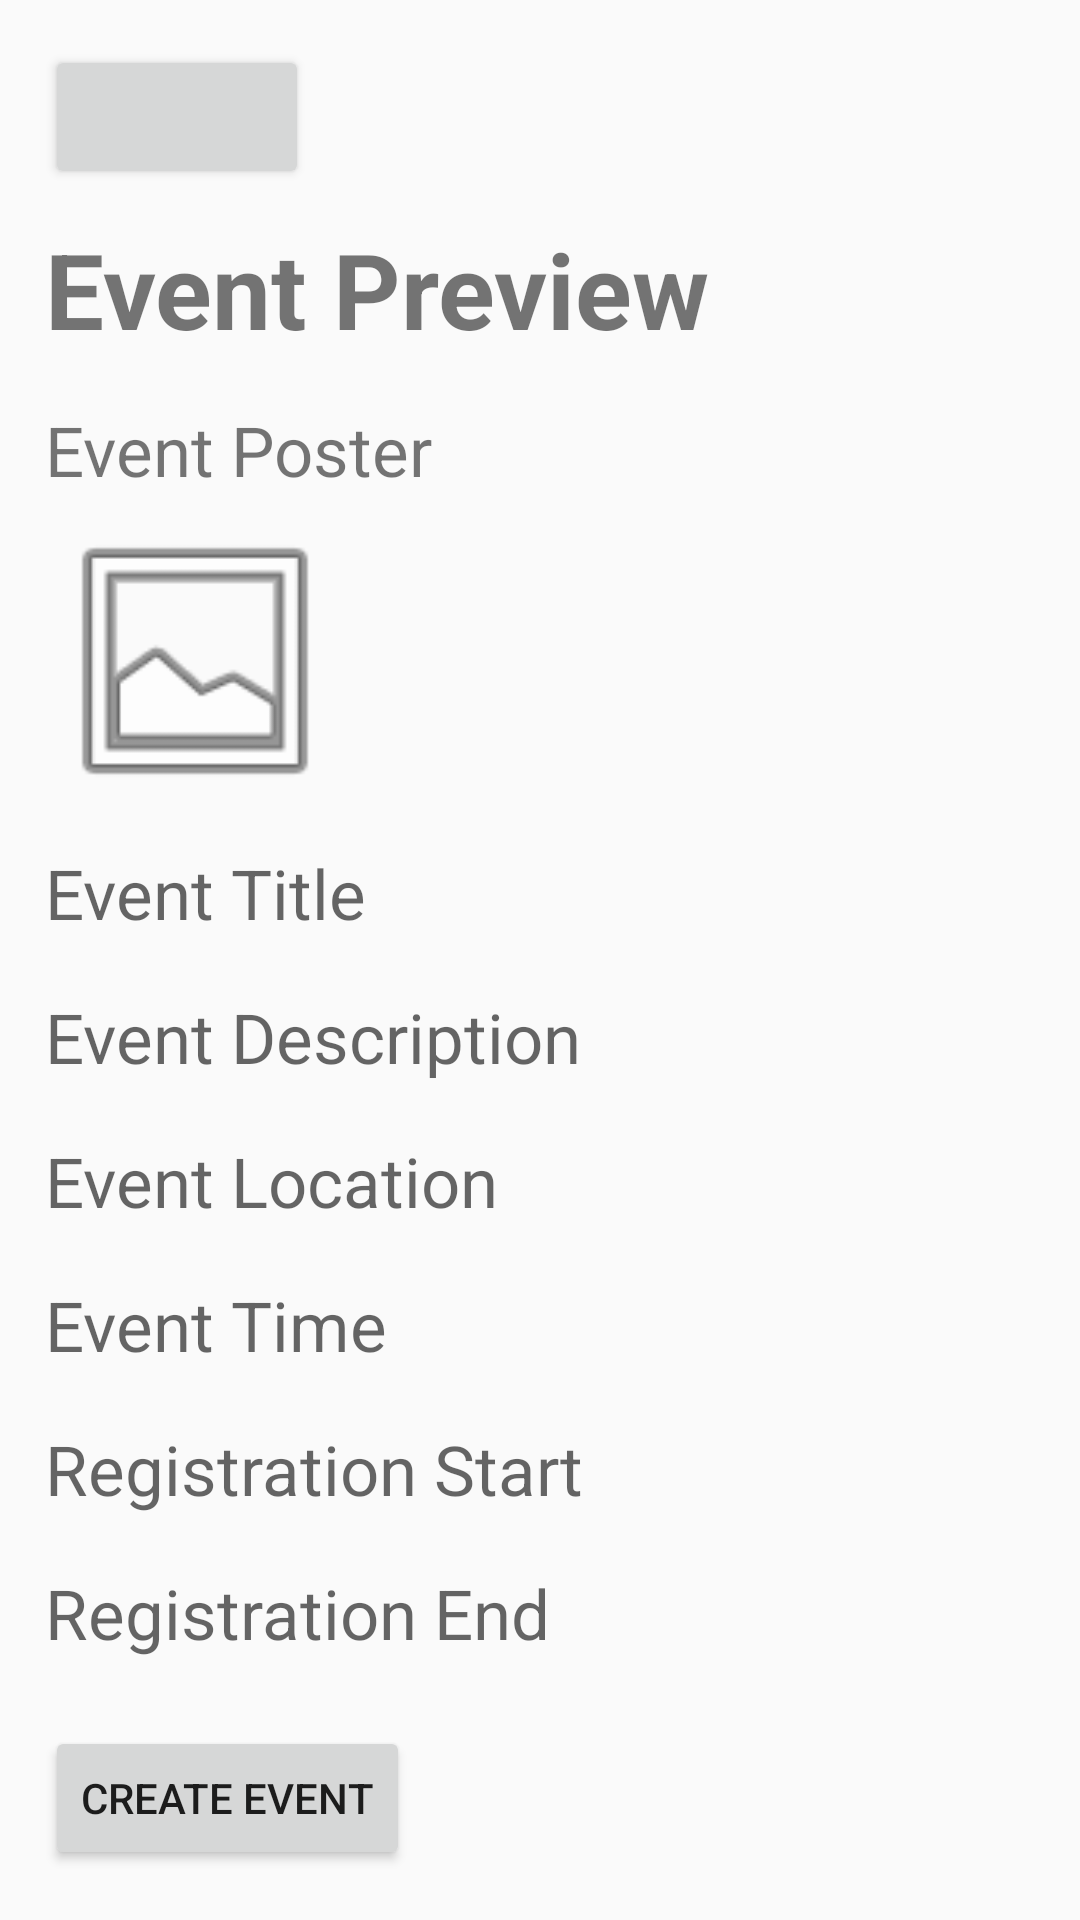

Where icons sit on this 1080 × 1920 app screen, as (x1,y1,x2,y2):
gallery: (82,548,308,774)
